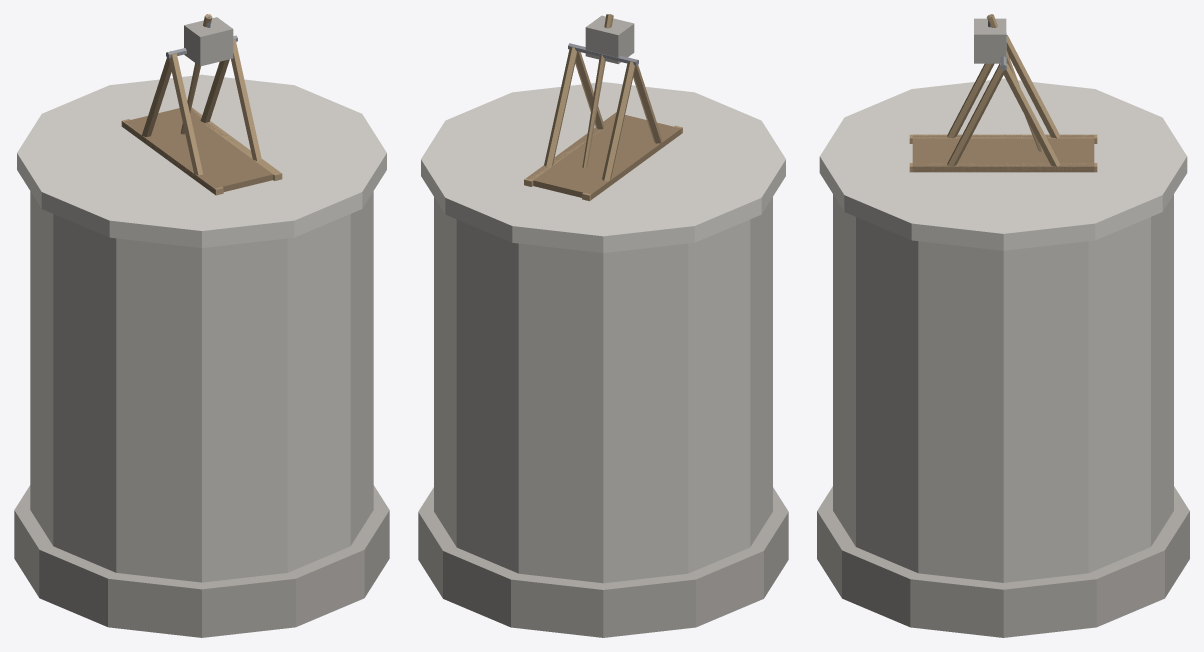
The picture shows the model from 3 angles, left to right: view 1: azimuth 30°, elevation 25°; view 2: azimuth 150°, elevation 25°; view 3: azimuth 270°, elevation 25°; orthographic projection.
Parts seen in each view (by area): view 1: body; view 2: body; view 3: body.
Part boxes in pixels (x1,y1,x2,y2): body: (14,14,389,637); body: (418,14,788,637); body: (817,14,1189,637).
Bounding box in the file's own units: 7 × 11.28 × 7.
